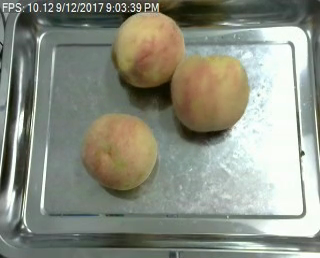Peach: (81, 112, 158, 191), (172, 54, 249, 131), (114, 12, 186, 87)
